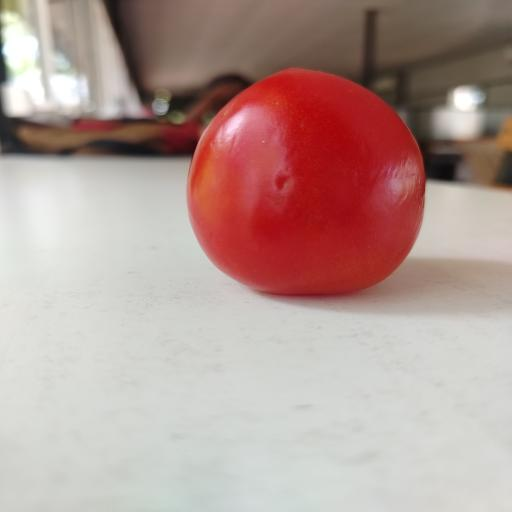ripe: (187, 69, 425, 294)
